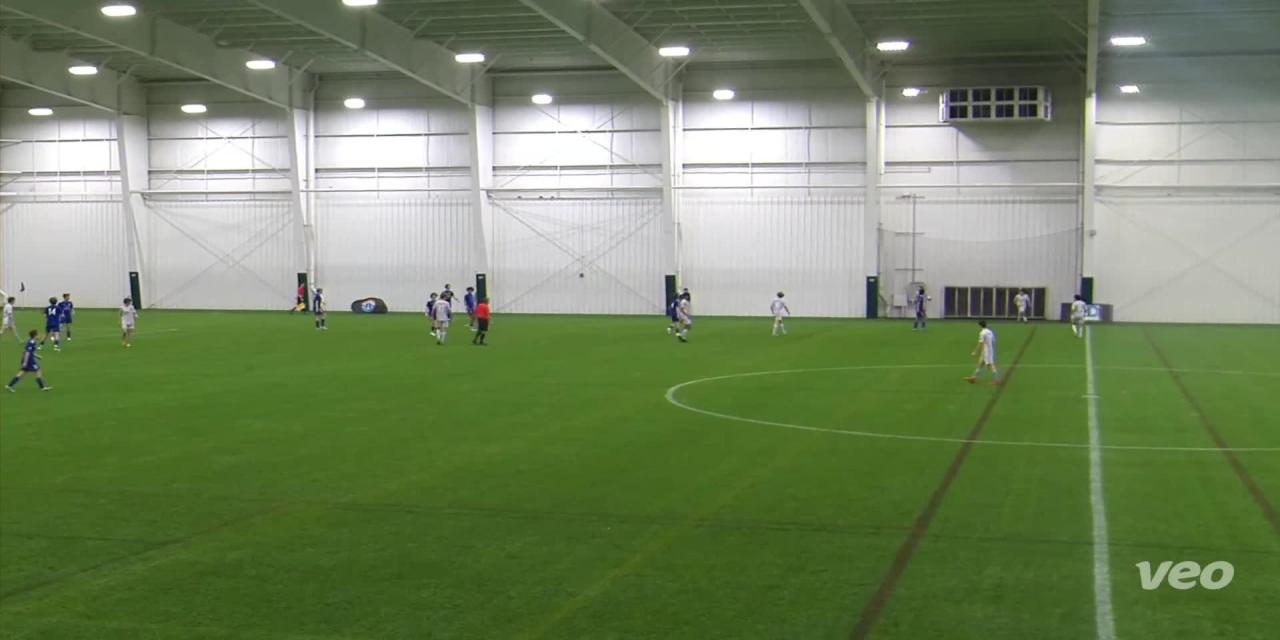sports ball: (920, 292, 936, 303)
